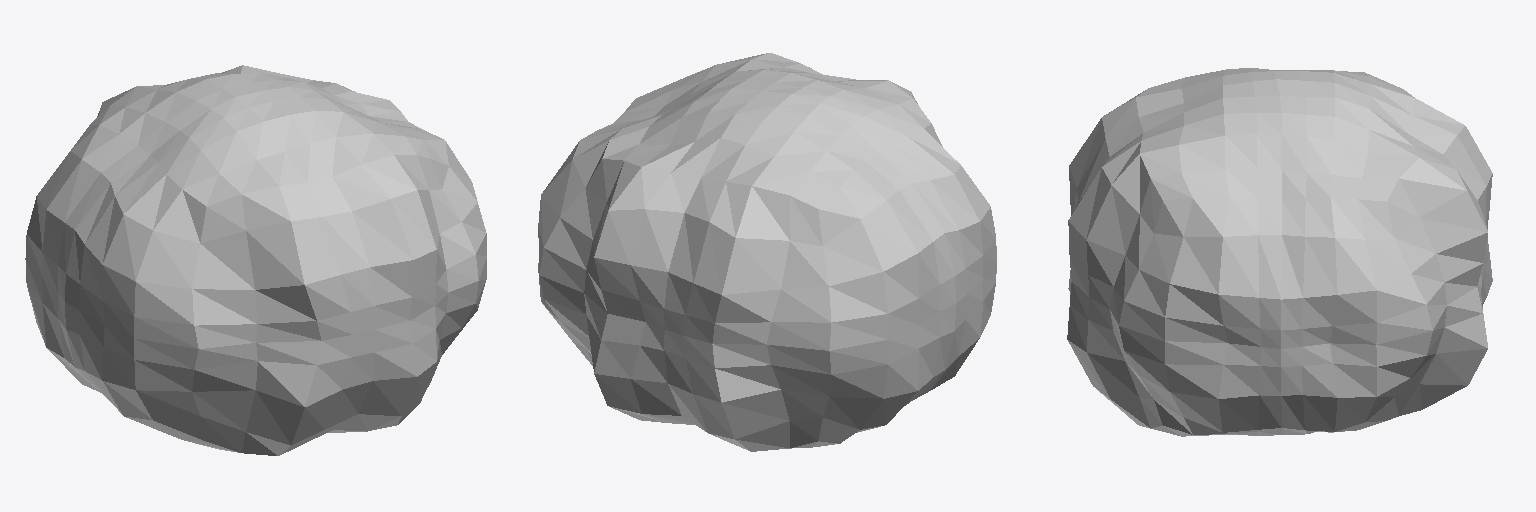
File: Interactive_Rock.obj
3 renders of one model, left to right at view 1: azimuth 30°, elevation 25°; view 2: azimuth 150°, elevation 25°; view 3: azimuth 270°, elevation 25°, orthographic.
Visible parts, largest first — view 1: Cube_Cube.001; view 2: Cube_Cube.001; view 3: Cube_Cube.001.
Boxes of the visible parts, <box> form: Cube_Cube.001: <box>25,65,486,455</box>; Cube_Cube.001: <box>538,53,996,451</box>; Cube_Cube.001: <box>1067,68,1492,436</box>.
Size of the model in its own units: 5.07 by 4.24 by 4.93.